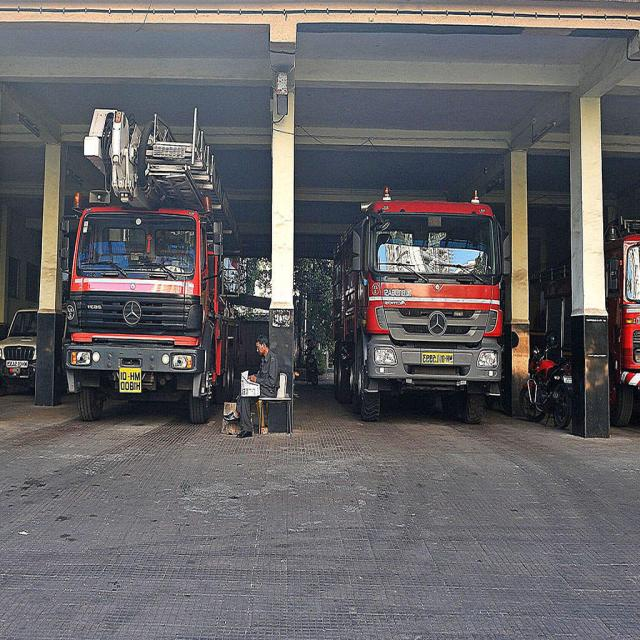emergency: (60, 108, 239, 423), (334, 193, 509, 423)
